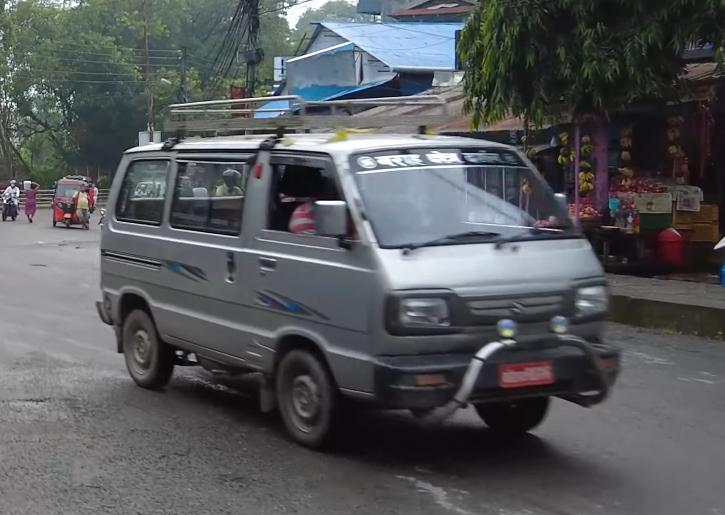auto_rickshaw: (51, 173, 95, 233)
van: (95, 90, 625, 457)
